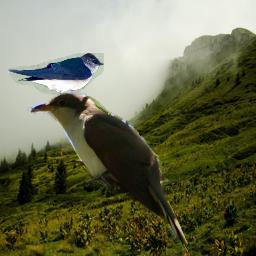Cuckoo: (27, 93, 188, 253)
Swallow: (8, 53, 104, 101)
